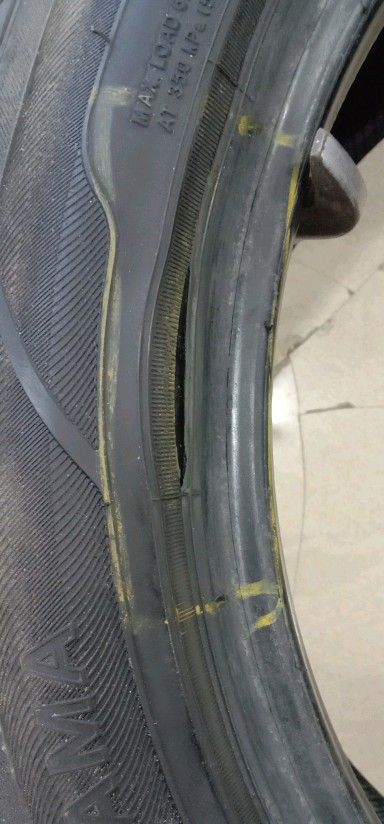cut: (173, 262, 192, 493)
